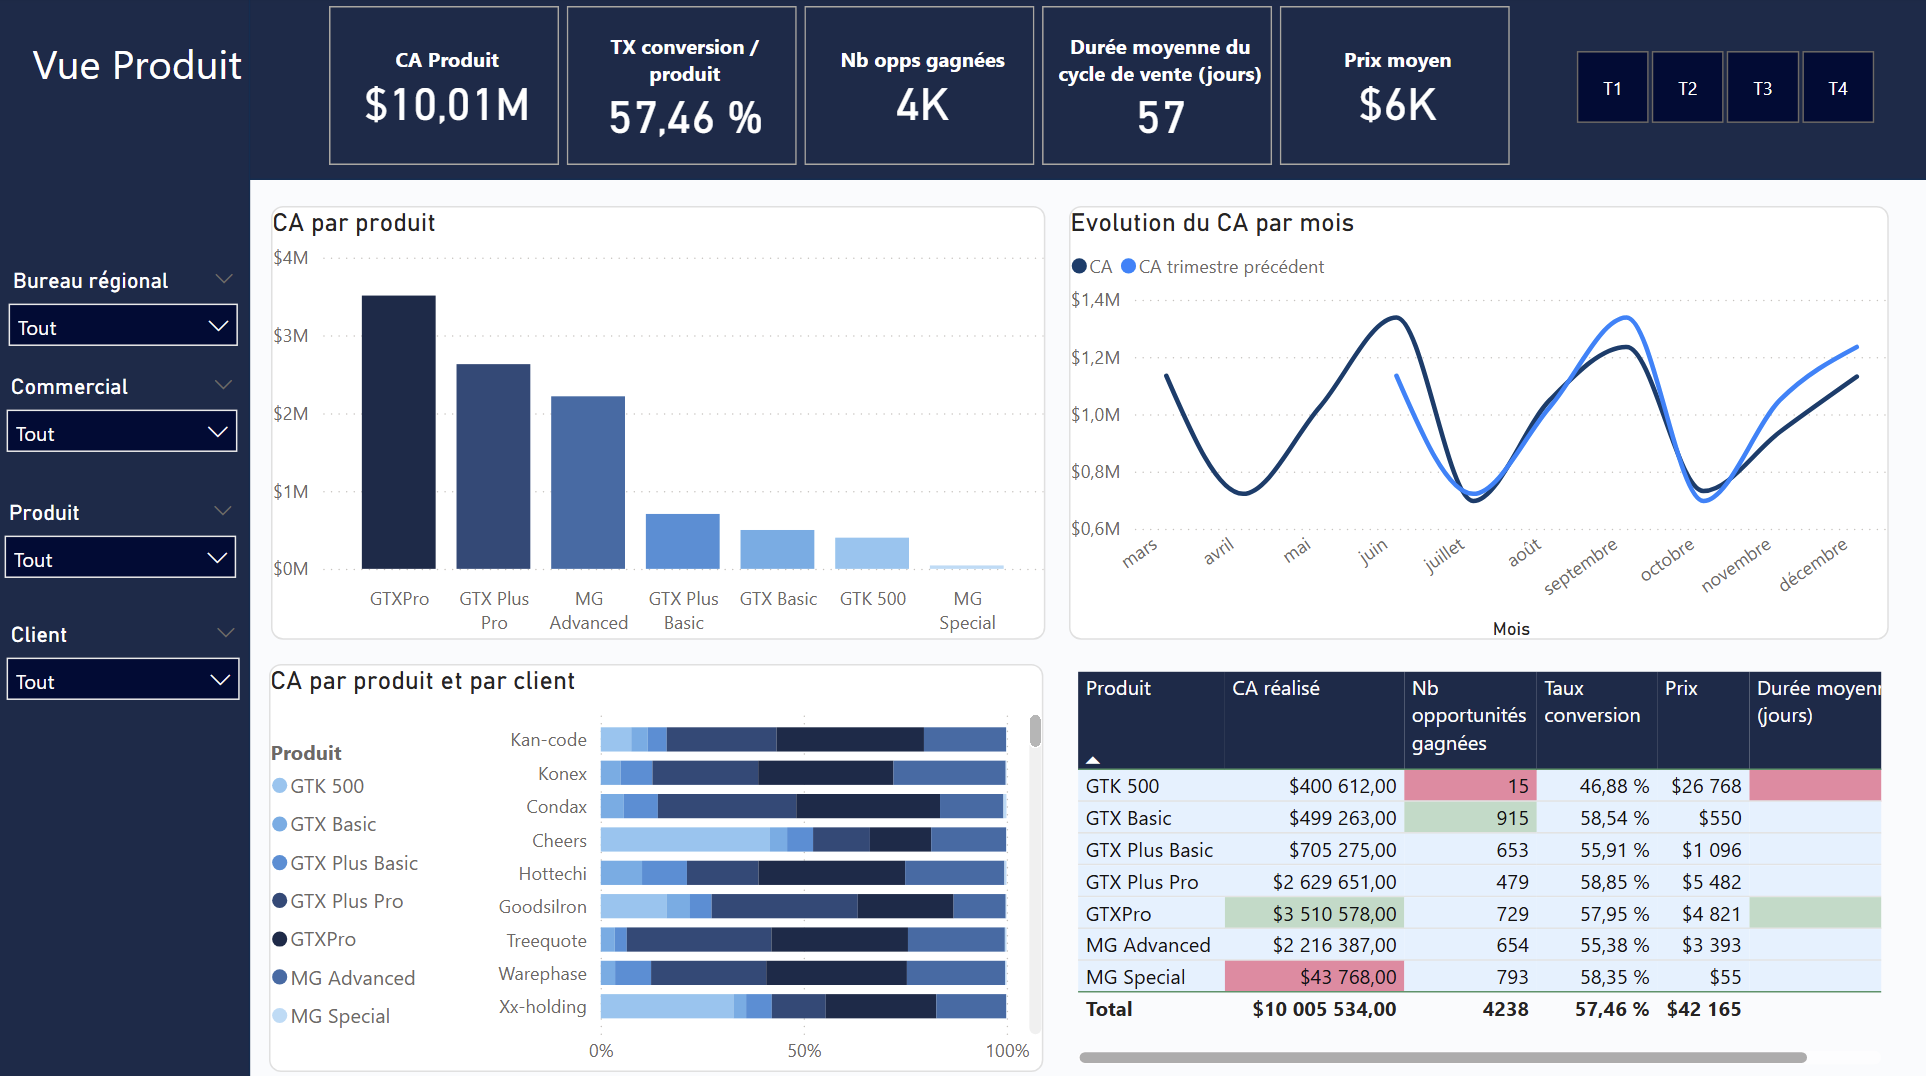

What the dashboard file says about the page in this screenshot:
{"tool":"powerbi","page":{"name":"Produit","canvas":[1280,720],"ordinal":1},"visuals":[{"type":"shape","box":[158.5,0,1121.6,122.9],"z":0},{"type":"shape","box":[0,0,170,718.6],"z":1000},{"type":"slicer","fields":{"Values":["sales_teams.sales_agent"]},"box":[4.4,251.2,162.3,75.4],"z":2000},{"type":"slicer","fields":{"Values":["sales_teams.Bureau régional"]},"box":[5.3,181.2,161.4,58.5],"z":3000},{"type":"slicer","fields":{"Values":["DimCalendar_Close_Date.Trimestre"]},"box":[1025.2,35.7,236.5,51.5],"z":4000},{"type":"slicer","fields":{"Values":["sales_pipeline.product"]},"box":[2.6,333.7,163.2,75.4],"z":6000},{"type":"slicer","fields":{"Values":["sales_pipeline.account"]},"box":[4,414.8,163.8,75.3],"z":7000},{"type":"cardVisual","fields":{"Data":["Mesure.CA","Mesure.Taux_Conversion","Mesure.nb_won_opps","Mesure.Duree_moyenne_cycle","Mesure.Prix moyen"]},"box":[221.9,4,782.1,113.6],"z":8000},{"type":"lineChart","title":"Evolution du CA par mois","fields":{"Category":["DimCalendar_Close_Date.Mois (nom)"],"Y":["Mesure.CA Won","Mesure.CA_Mois_Precedent"]},"box":[710.8,140,541.7,286.7],"z":9000},{"type":"textbox","box":[21.1,22.5,171.7,54.2],"z":11000},{"type":"hundredPercentStackedBarChart","title":"CA par produit et par client","fields":{"Category":["sales_pipeline.account"],"Y":["Mesure.CA"],"Series":["products.product"]},"box":[182.3,442.6,511.3,269.5],"z":12000},{"type":"columnChart","title":"CA par produit","fields":{"Y":["Mesure.CA"],"Category":["products.product"],"Series":["products.product"]},"box":[183.6,140,511.3,286.7],"z":13000},{"type":"tableEx","fields":{"Values":["products.product","Mesure.CA","Mesure.nb_won_opps","Mesure.Taux_Conversion","Sum(products.sales_price)","Mesure.Duree_moyenne_cycle"]},"box":[710.8,442.6,541.7,269.5],"z":13001}]}

Visuals, with their boxes in screenshot pixels (x1, y1, x2, y2), scaled from the page's 1280x720 canvas onto the 1926x1076 screenshot:
shape: (left=238, top=0, right=1925, bottom=184)
shape: (left=0, top=0, right=256, bottom=1074)
slicer - sales_teams.sales_agent: (left=7, top=375, right=251, bottom=488)
slicer - sales_teams.Bureau régional: (left=8, top=271, right=251, bottom=358)
slicer - DimCalendar_Close_Date.Trimestre: (left=1543, top=53, right=1898, bottom=130)
slicer - sales_pipeline.product: (left=4, top=499, right=249, bottom=611)
slicer - sales_pipeline.account: (left=6, top=620, right=252, bottom=732)
cardVisual - Mesure.CA x Mesure.Taux_Conversion: (left=334, top=6, right=1511, bottom=176)
"Evolution du CA par mois" lineChart: (left=1070, top=209, right=1885, bottom=638)
textbox: (left=32, top=34, right=290, bottom=115)
"CA par produit et par client" hundredPercentStackedBarChart: (left=274, top=661, right=1044, bottom=1064)
"CA par produit" columnChart: (left=276, top=209, right=1046, bottom=638)
tableEx - products.product x Mesure.CA: (left=1070, top=661, right=1885, bottom=1064)
